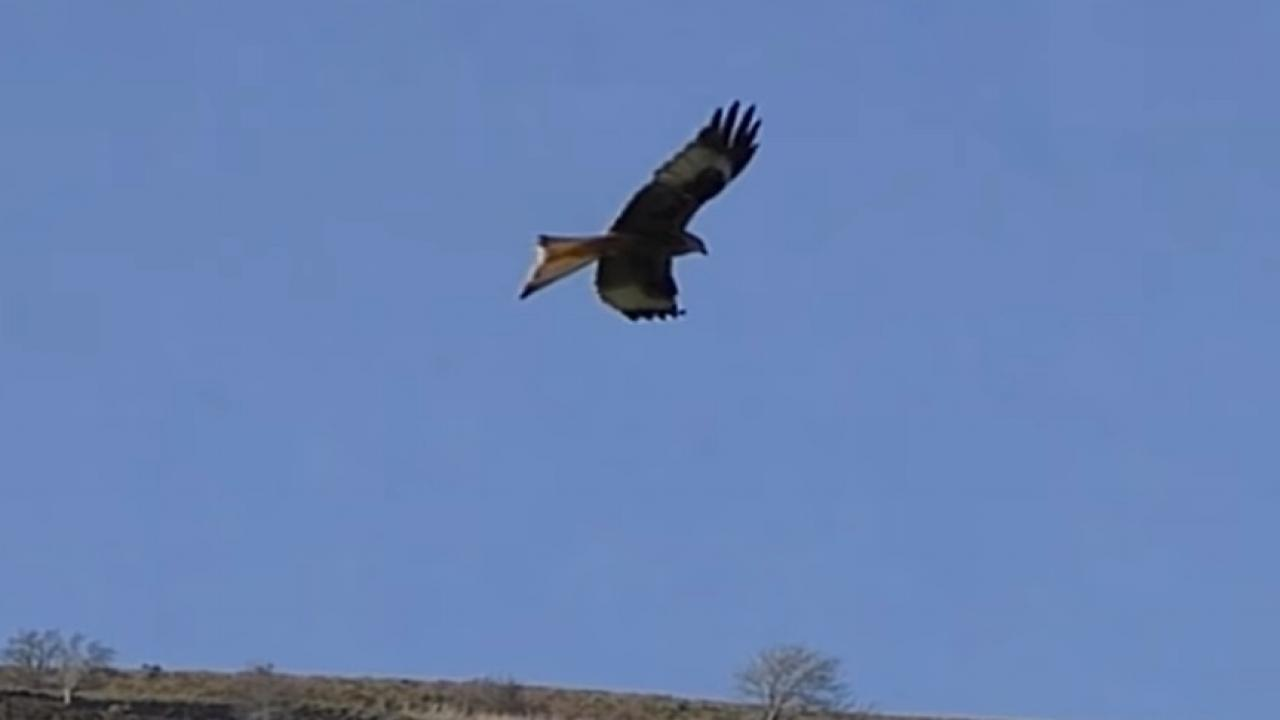Bird: (511, 95, 774, 328)
